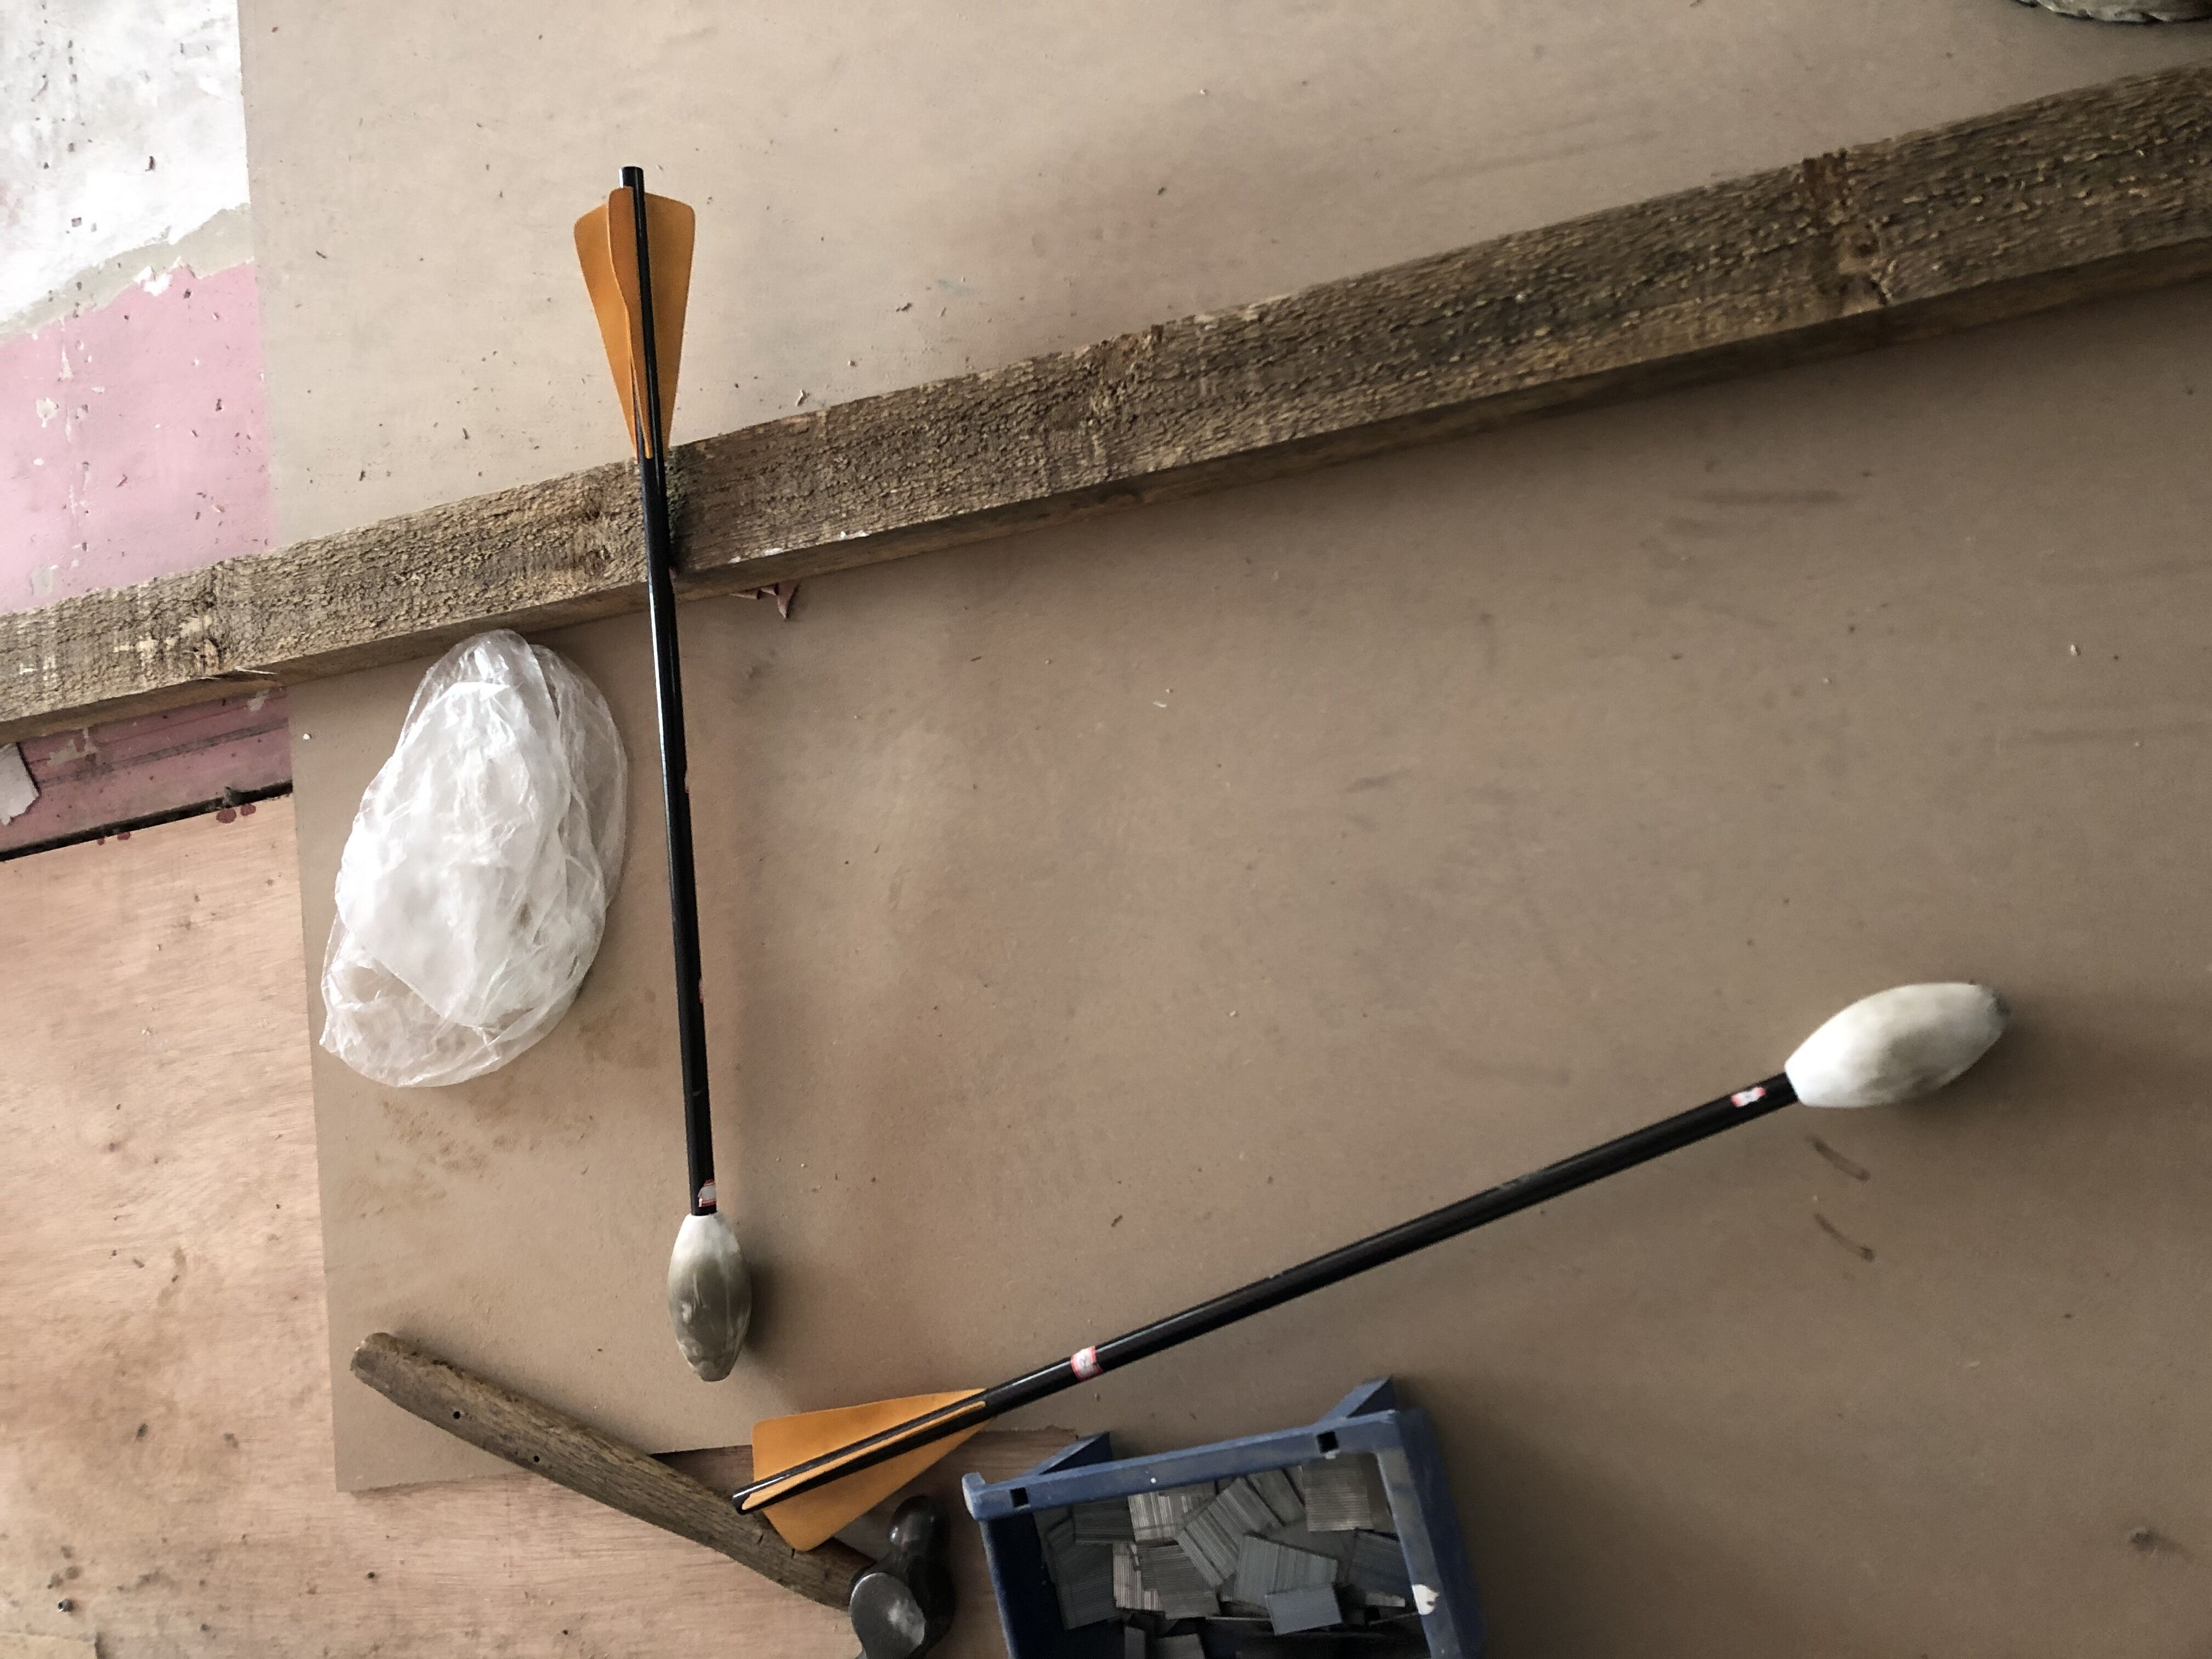arrow: (728, 976, 2012, 1547), (573, 164, 752, 1382)
arrowFront: (1782, 979, 2005, 1112), (665, 1209, 749, 1382)
